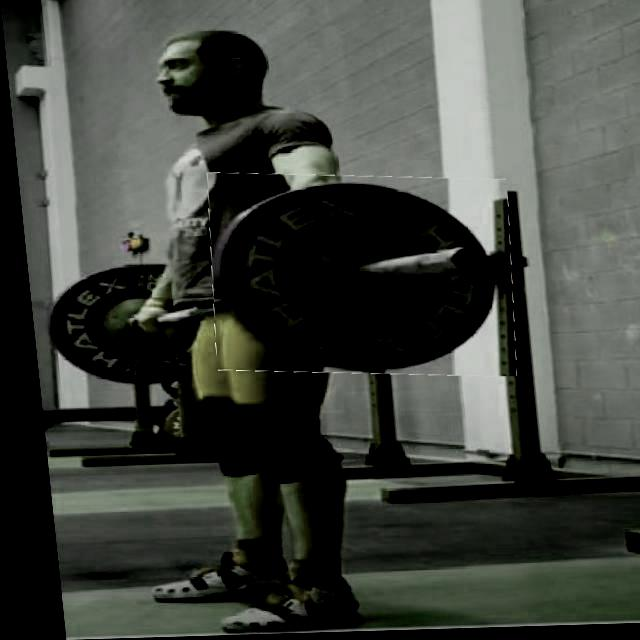barbell: (197, 172, 517, 384)
